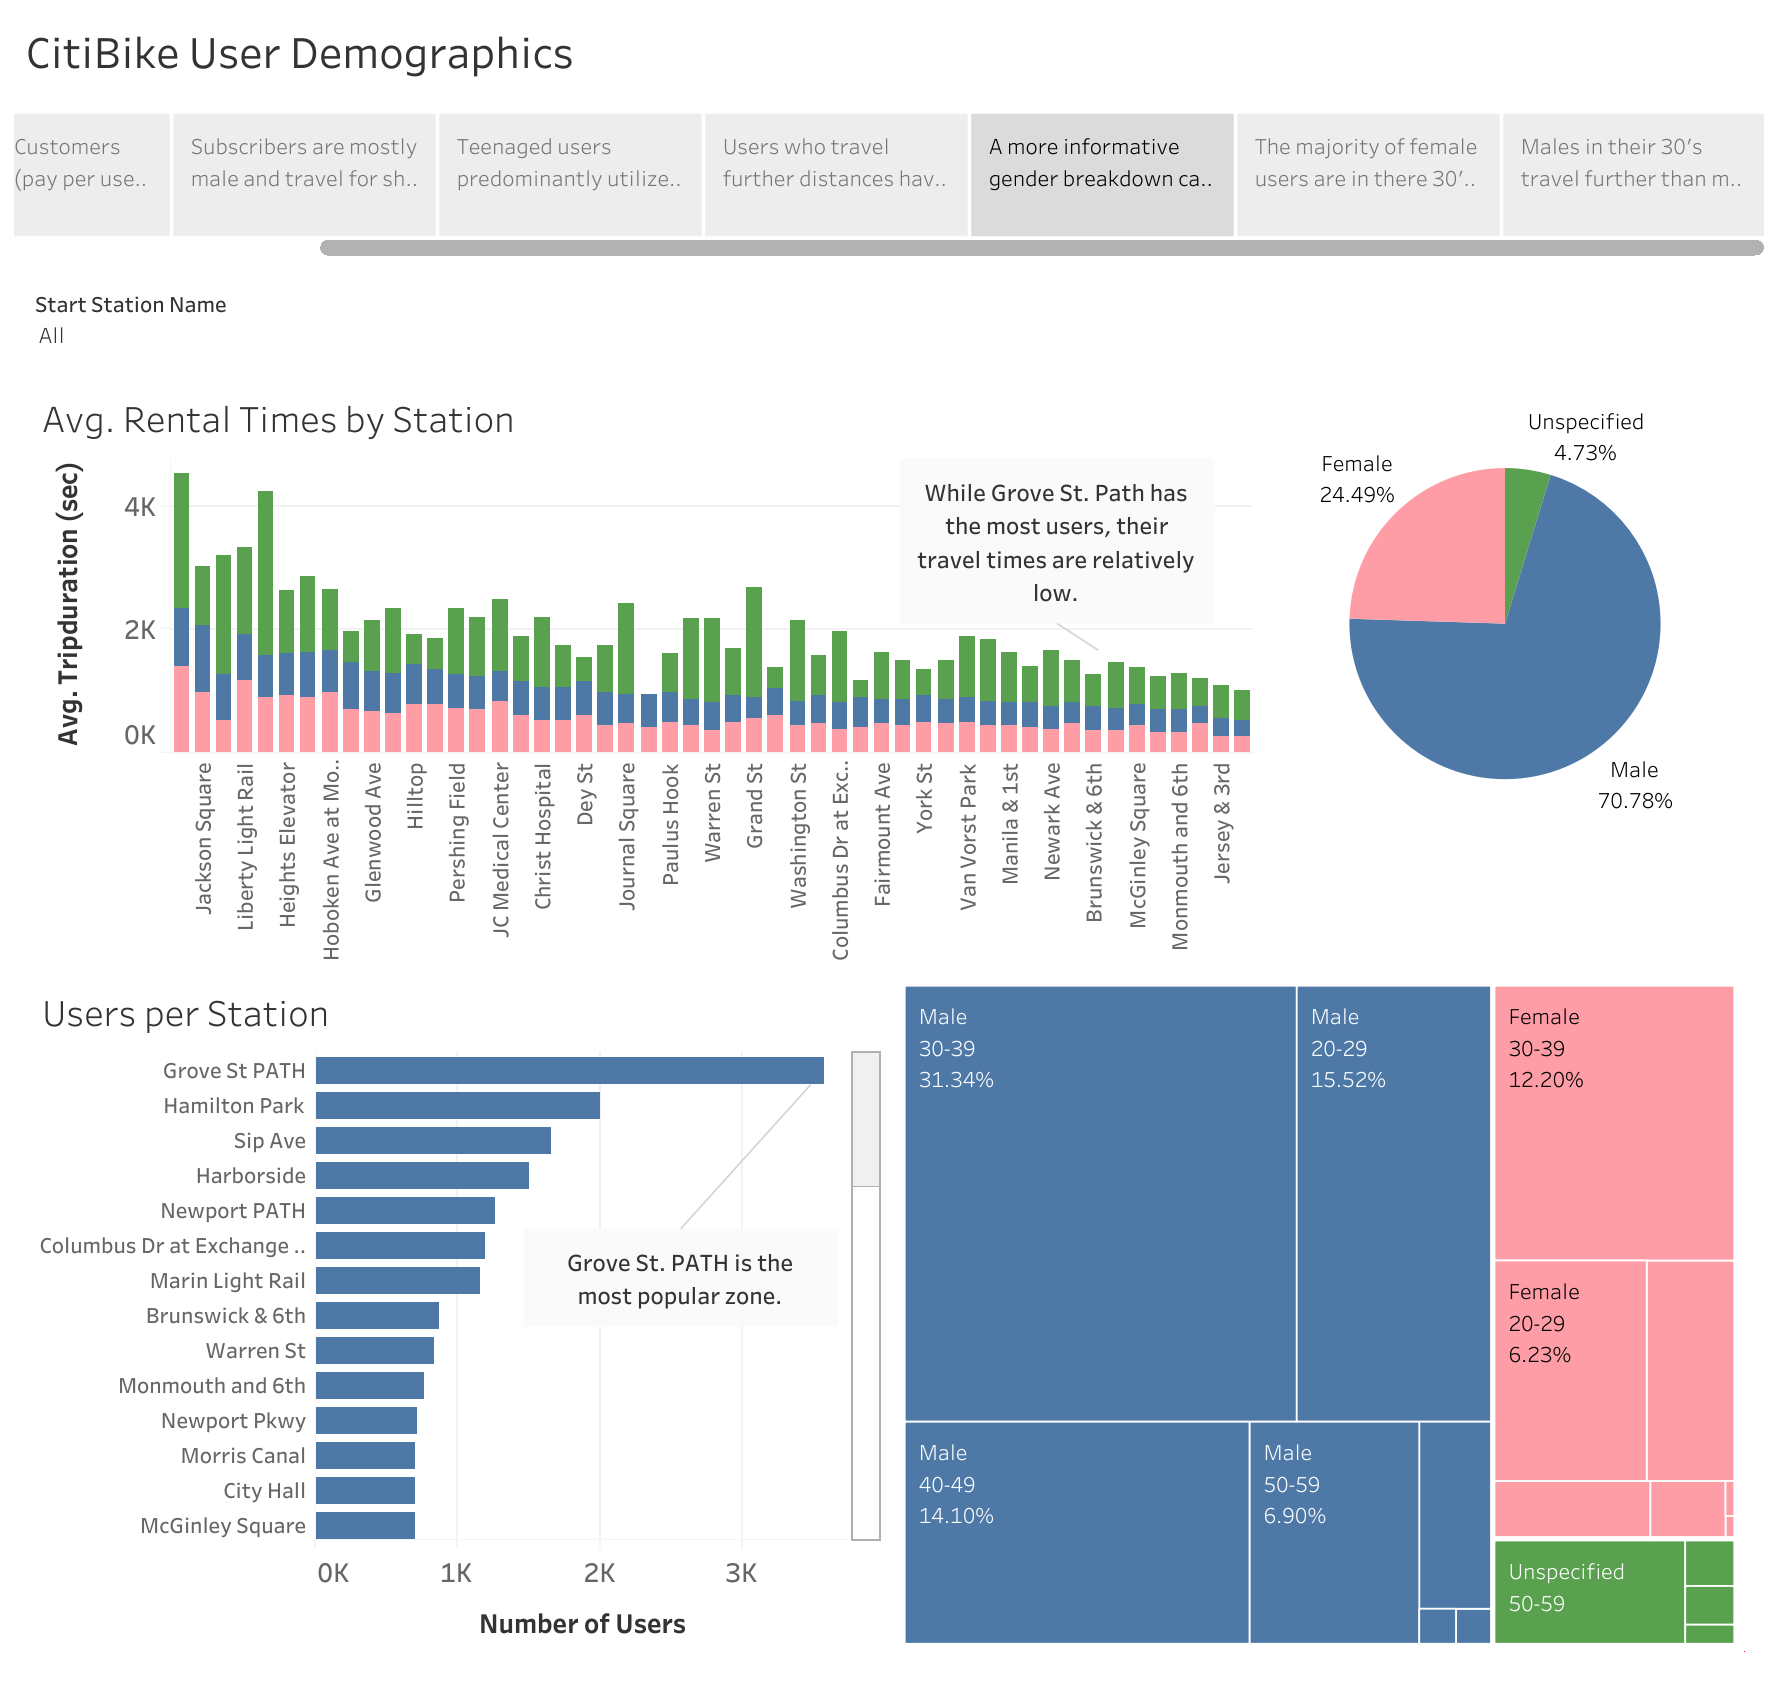

This screenshot's page, from the dashboard's own definition file:
{"tool":"tableau","page":{"name":"Gender Stats DB","canvas":[1000,1000],"units":"permille","ordinal":0},"visuals":[{"type":"filter","title":"Avg. Rental Times by Station","param":"[federated.1djbkvf0iddfvb16h6xlh0xldu7f].[none:start station name:nk]","box":[6.2,9.6,706.8,69.7]},{"type":"worksheet","title":"Gender","mark":"Pie","box":[713,9.6,280.8,490.4]},{"type":"worksheet","title":"Avg. Rental Times by Station","mark":"Automatic","rows":["tripduration"],"cols":["start station name"],"box":[6.2,79.3,706.8,420.7]},{"type":"worksheet","title":"Users per Station","mark":"Automatic","rows":["start station name"],"cols":["Number of Records"],"box":[6.2,500,493.8,490.4]},{"type":"worksheet","title":"Gender-Age Treemap","mark":"Automatic","box":[500,500,493.8,490.4]}]}

Visuals, with their boxes on the dashboard's canvas, which has no fixed pixel size, in thousandths of its width and height (x1, y1, x2, y2). These are canvas units, not pixel positions in the 1776x1685 screenshot, which may show the page scaled, cropped or inside an application window:
"Avg. Rental Times by Station" filter: x1=6 y1=10 x2=713 y2=79
"Gender" worksheet (Pie marks): x1=713 y1=10 x2=994 y2=500
"Avg. Rental Times by Station" worksheet: x1=6 y1=79 x2=713 y2=500
"Users per Station" worksheet: x1=6 y1=500 x2=500 y2=990
"Gender-Age Treemap" worksheet: x1=500 y1=500 x2=994 y2=990
